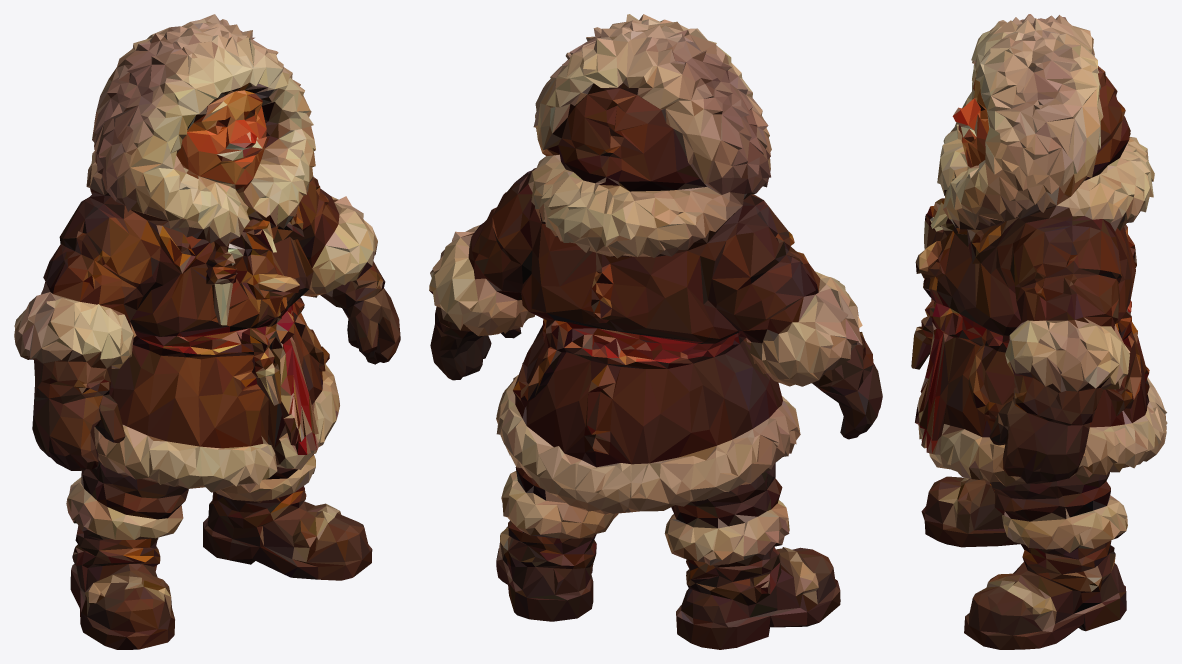
The model's file is eskimo.glb.
3 views of the same model, side by side, from view 1: azimuth 30°, elevation 25°; view 2: azimuth 150°, elevation 25°; view 3: azimuth 270°, elevation 25° (orthographic). The views are drawn at different scales.
Visible parts, largest first — view 1: tripo_node_8b9c540c-5436-414b-8643-2aba84a52330; view 2: tripo_node_8b9c540c-5436-414b-8643-2aba84a52330; view 3: tripo_node_8b9c540c-5436-414b-8643-2aba84a52330.
Part boxes in pixels (x1,y1,x2,y2): tripo_node_8b9c540c-5436-414b-8643-2aba84a52330: (14,14,400,649); tripo_node_8b9c540c-5436-414b-8643-2aba84a52330: (429,14,882,649); tripo_node_8b9c540c-5436-414b-8643-2aba84a52330: (911,14,1167,649).
Size of the model in its own units: 1.15 by 1.6 by 0.6674.
